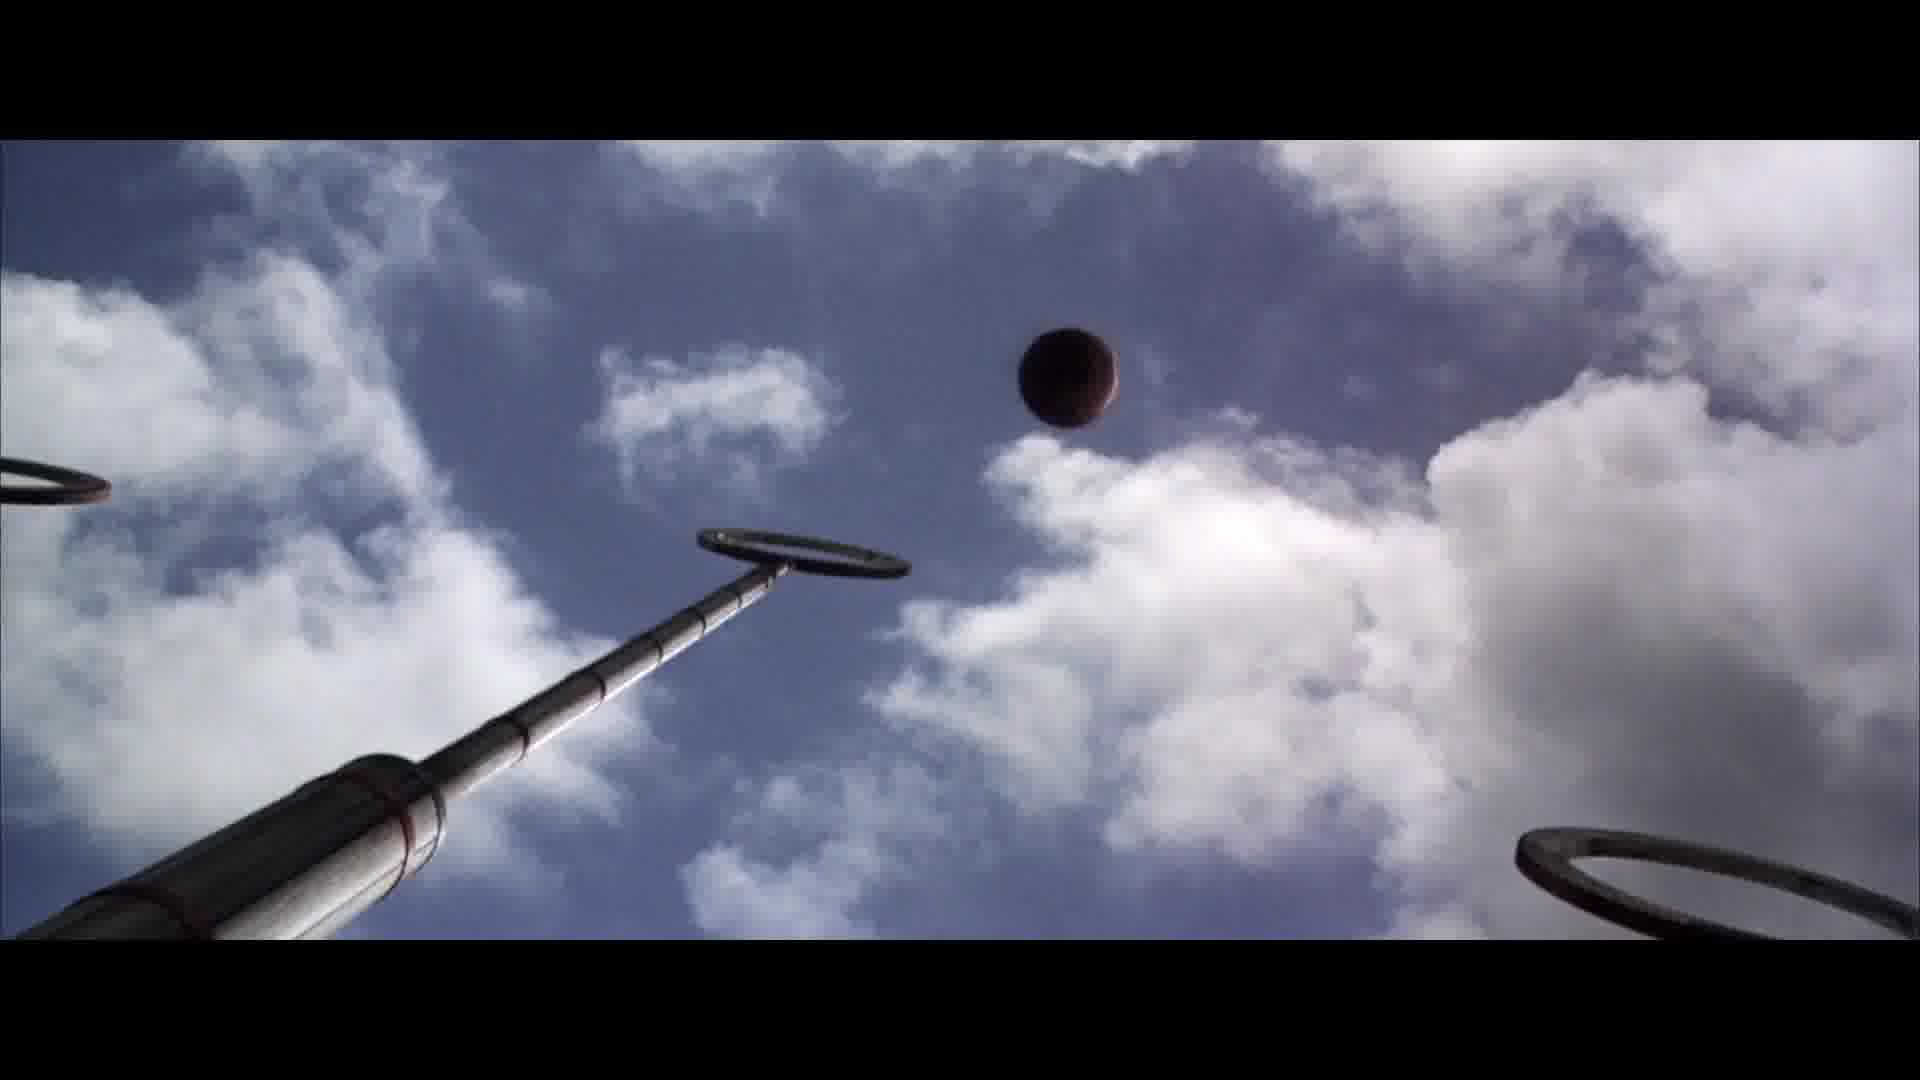bludger: (1019, 328, 1118, 429)
